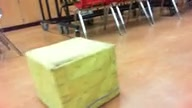cube: (25, 36, 121, 108)
